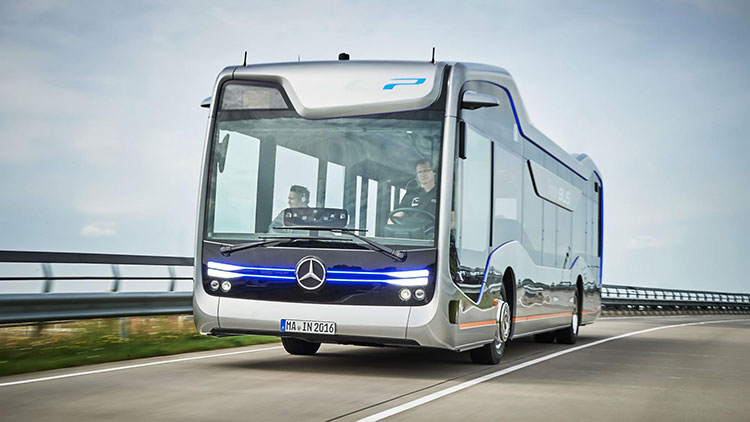bus: (193, 59, 603, 364)
